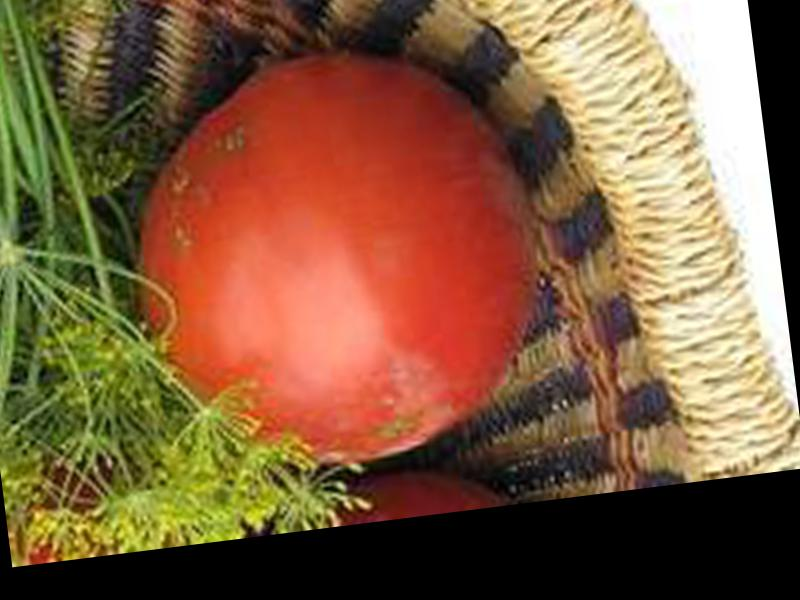Tomato: (110, 35, 559, 488)
